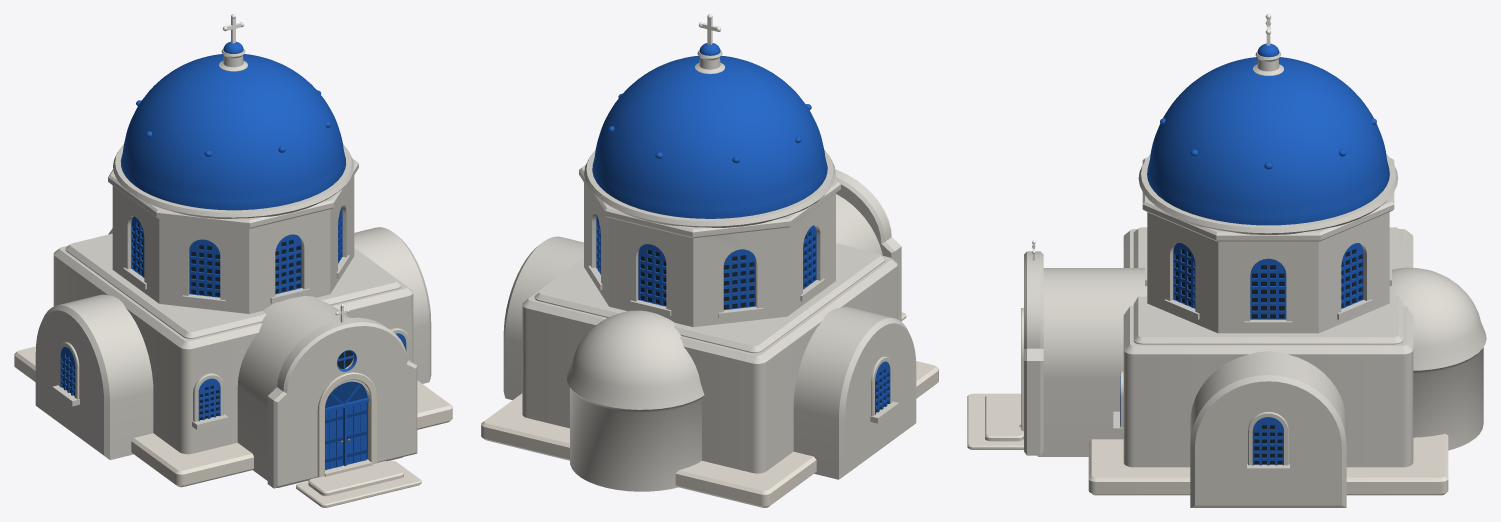
The model's file is church.glb.
The picture shows the model from 3 angles, left to right: view 1: azimuth 30°, elevation 25°; view 2: azimuth 150°, elevation 25°; view 3: azimuth 270°, elevation 25°; orthographic projection. The views are drawn at different scales.
Parts seen in each view (by area): view 1: blue11, white3, white26, white1, white23, white22, white2, shade0, white24, white10, white9, shade59 (+11 smaller); view 2: blue11, white1, white25, white3, white23, shade0, white2, white24, white10, white26, white9, white22 (+6 smaller); view 3: blue11, white1, white24, white3, white22, white25, shade0, white2, white26, white10, white9, shade59 (+7 smaller).
Boxes of the visible parts, bbox=[...] form: blue11: bbox=[120, 54, 346, 210]; white3: bbox=[112, 175, 354, 313]; white26: bbox=[267, 317, 417, 488]; white1: bbox=[53, 245, 413, 454]; white23: bbox=[35, 294, 153, 459]; white22: bbox=[237, 296, 402, 487]; white2: bbox=[65, 233, 401, 338]; shade0: bbox=[14, 346, 452, 487]; white24: bbox=[354, 227, 431, 383]; white10: bbox=[113, 144, 353, 218]; white9: bbox=[108, 158, 358, 228]; shade59: bbox=[308, 461, 403, 495]; blue11: bbox=[592, 55, 827, 218]; white1: bbox=[522, 255, 897, 473]; white25: bbox=[566, 310, 704, 491]; white3: bbox=[584, 183, 835, 327]; white23: bbox=[793, 307, 916, 479]; shade0: bbox=[481, 361, 938, 507]; white2: bbox=[534, 243, 885, 353]; white24: bbox=[503, 236, 583, 399]; white10: bbox=[584, 150, 835, 227]; white26: bbox=[835, 169, 901, 321]; white9: bbox=[579, 165, 840, 238]; white22: bbox=[836, 194, 882, 255]; blue11: bbox=[1147, 57, 1389, 225]; white1: bbox=[1123, 229, 1413, 467]; white24: bbox=[1190, 351, 1346, 507]; white3: bbox=[1147, 212, 1389, 333]; white22: bbox=[1038, 268, 1147, 456]; white25: bbox=[1389, 267, 1486, 450]; shade0: bbox=[1088, 434, 1448, 495]; white2: bbox=[1133, 227, 1403, 344]; white26: bbox=[1024, 251, 1043, 455]; white10: bbox=[1138, 154, 1398, 234]; white9: bbox=[1142, 157, 1394, 241]; shade59: bbox=[985, 394, 1023, 441].
Size of the model in its own units: 10.88 by 11.56 by 13.28.
